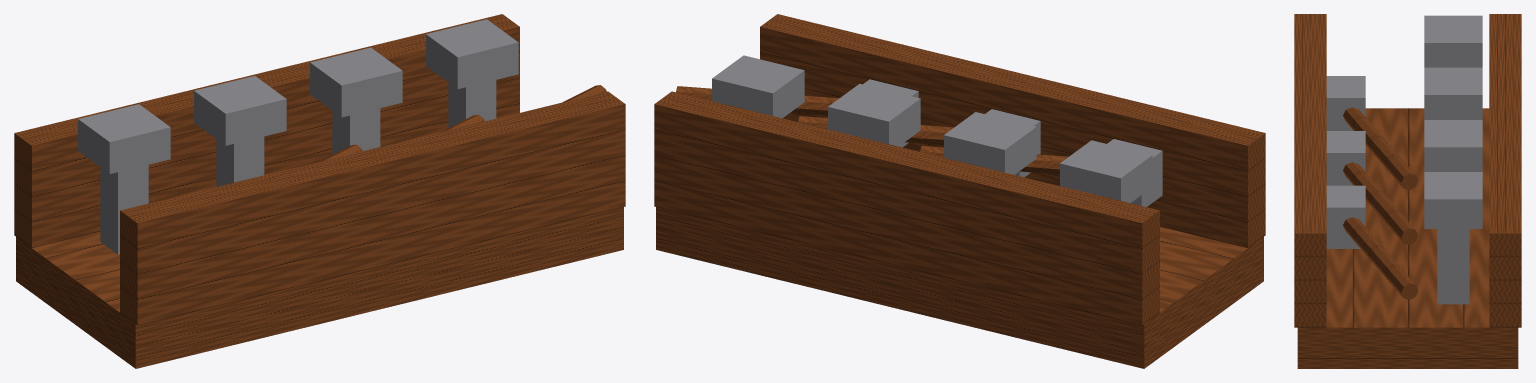
File: blacksmith-forge-and-armoury-blacksmith-forge-and-armo-82a18adf__37580.glb
The picture shows the model from 3 angles, left to right: view 1: azimuth 30°, elevation 25°; view 2: azimuth 150°, elevation 25°; view 3: azimuth 270°, elevation 25°; orthographic projection. The views are drawn at different scales.
Visible parts, largest first — view 1: blacksmith-forge-and-armoury-swage-and-fuller-set; view 2: blacksmith-forge-and-armoury-swage-and-fuller-set; view 3: blacksmith-forge-and-armoury-swage-and-fuller-set.
Part boxes in pixels (x1,y1,x2,y2): blacksmith-forge-and-armoury-swage-and-fuller-set: (14,14,625,368); blacksmith-forge-and-armoury-swage-and-fuller-set: (654,14,1265,368); blacksmith-forge-and-armoury-swage-and-fuller-set: (1294,14,1521,368).
Bounding box in the file's own units: 0.8666 × 0.26 × 0.35.
Materials: 2 (1 with a texture image).
